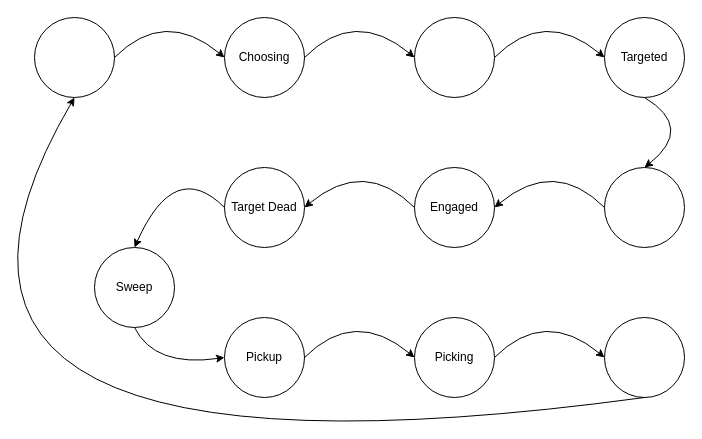
The diagram is 702 pixels wide and 439 high, and some of its shapes have lost their labels. The shapes that lost their labels are listed below. From the top down, each one's box as (x1, y1, x2, y2) in pixels, then its label:
(34, 16, 114, 98): Start
(414, 16, 494, 98): Target
(604, 166, 684, 248): Engage
(604, 316, 684, 398): Rest
